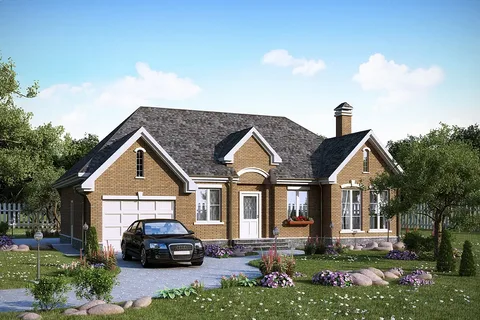private_hause: (60, 100, 404, 252)
